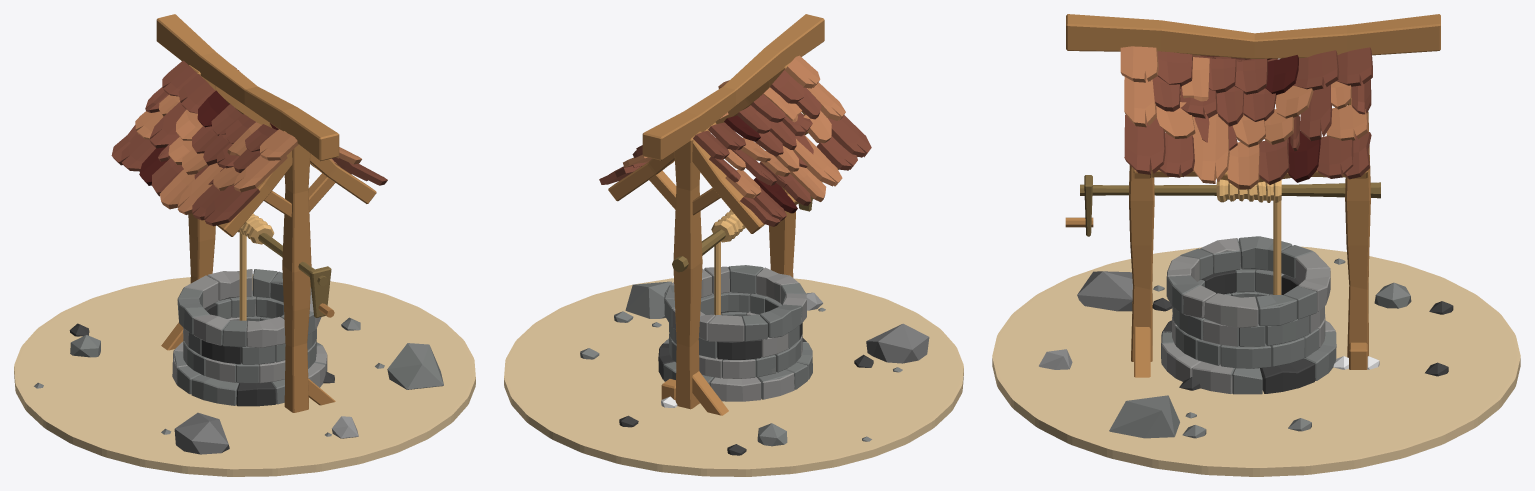
Rendered from well.glb.
3 renders of one model, left to right at view 1: azimuth 30°, elevation 25°; view 2: azimuth 150°, elevation 25°; view 3: azimuth 270°, elevation 25°, orthographic. The views are drawn at different scales.
Visible parts, largest first — view 1: Cylinder, Right Bar, Top Bar, Cube.015, Icosphere.003, Icosphere.006, Left Bar, Rooftiles.036, Cube.079, Cube.037, Rooftiles.054, Cube.018 (+31 smaller); view 2: Cylinder, Top Bar, Left Bar, Cube.005, Icosphere.006, Right Bar, Icosphere.003, Cube.084, Rooftiles.060, Rooftiles.036, Cube.022, Cube.017 (+31 smaller); view 3: Cylinder, Top Bar, Left Bar, Right Bar, Icosphere.003, Cylinder.001, Rooftiles.026, Rooftiles.002, Icosphere.006, Cube.032, Cube.089, Rooftiles.006 (+49 smaller).
Part boxes in pixels (x1,y1,x2,y2): Cylinder: [14, 274, 475, 476]; Right Bar: [282, 131, 311, 412]; Top Bar: [156, 14, 339, 161]; Cube.015: [217, 151, 376, 236]; Icosphere.003: [387, 343, 443, 389]; Icosphere.006: [174, 412, 229, 454]; Left Bar: [188, 65, 215, 283]; Rooftiles.036: [204, 184, 259, 226]; Cube.079: [191, 374, 239, 405]; Cube.037: [246, 316, 285, 347]; Rooftiles.054: [233, 155, 287, 192]; Cube.018: [264, 173, 335, 217]; Cylinder: [504, 278, 963, 476]; Top Bar: [642, 14, 824, 160]; Left Bar: [673, 131, 702, 409]; Cube.005: [608, 140, 764, 233]; Icosphere.006: [866, 323, 929, 363]; Right Bar: [768, 62, 796, 277]; Icosphere.003: [625, 281, 672, 318]; Cube.084: [710, 377, 761, 401]; Rooftiles.060: [793, 135, 842, 186]; Rooftiles.036: [828, 115, 871, 157]; Cube.022: [760, 305, 801, 337]; Cube.017: [649, 170, 720, 215]; Cylinder: [992, 246, 1520, 476]; Top Bar: [1066, 14, 1440, 58]; Left Bar: [1345, 103, 1370, 357]; Right Bar: [1129, 165, 1154, 361]; Icosphere.003: [1109, 395, 1179, 438]; Cylinder.001: [1080, 182, 1380, 198]; Rooftiles.026: [1192, 112, 1229, 183]; Rooftiles.002: [1124, 115, 1165, 174]; Icosphere.006: [1077, 271, 1132, 311]; Cube.032: [1204, 293, 1258, 327]; Cube.089: [1260, 358, 1314, 393]; Rooftiles.006: [1293, 50, 1339, 90].
Size of the model in its own units: 40.19 by 31.25 by 40.19.
